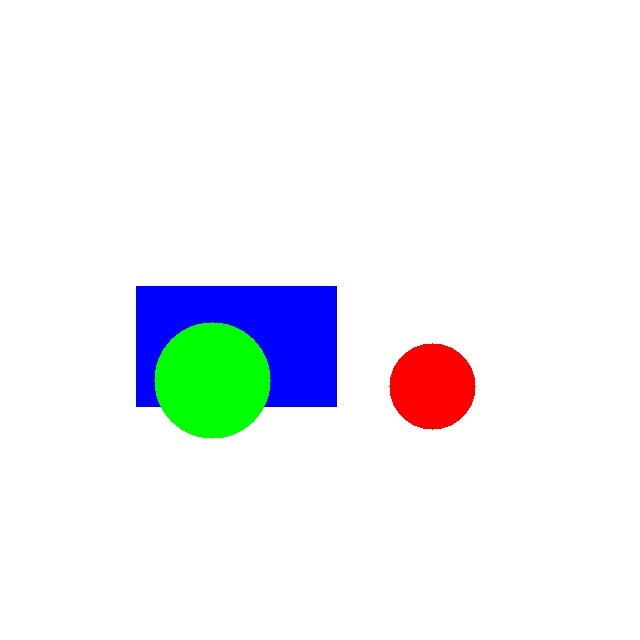cartao: (136, 286, 336, 406)
rosca_externa: (154, 322, 270, 438)
rosca_interna: (389, 343, 475, 429)
